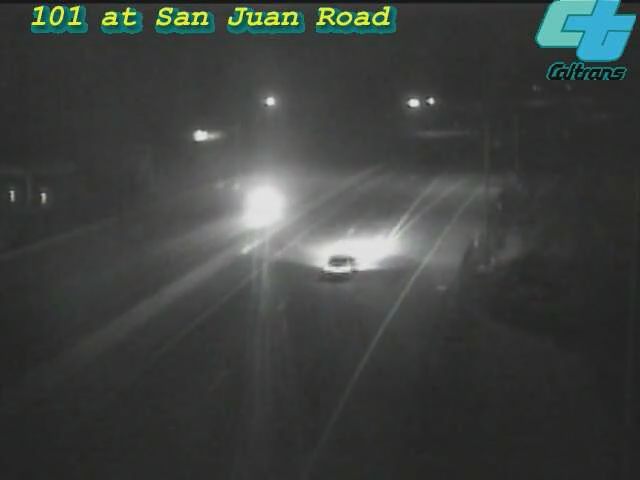vehicle: (297, 228, 377, 308), (217, 162, 297, 242)
